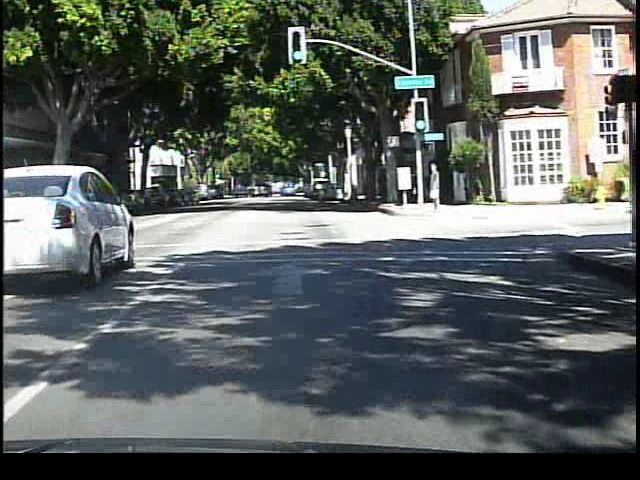person: (425, 158, 446, 216)
